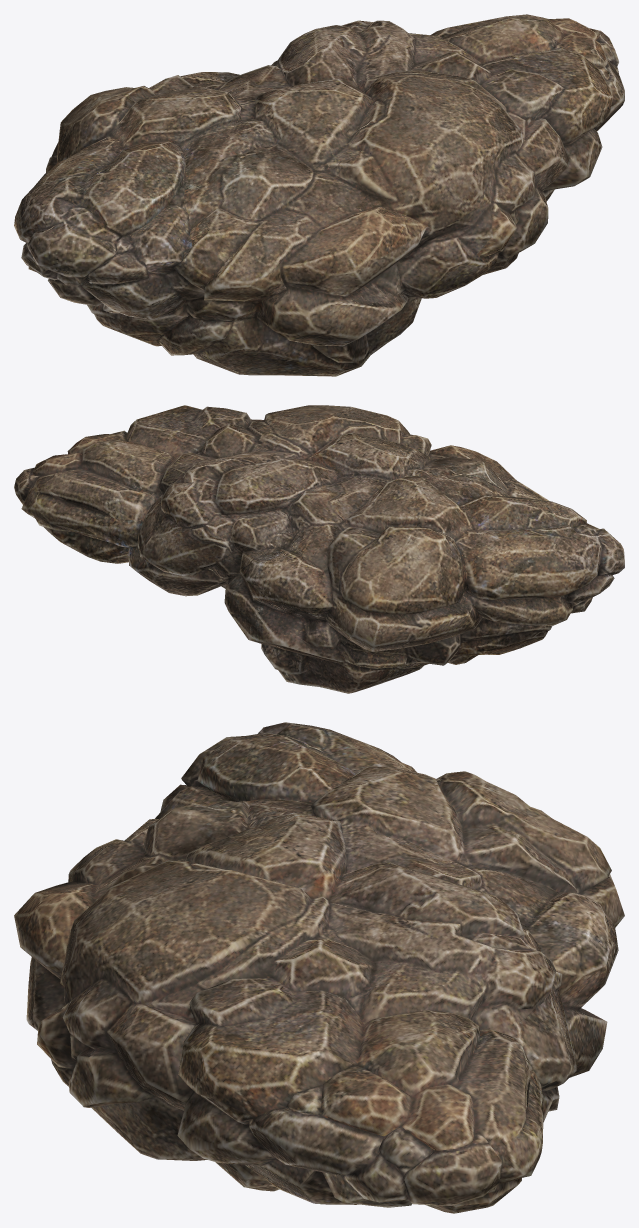
The model's file is rock_b.glb.
3 renders of one model, top to bottom at view 1: azimuth 30°, elevation 25°; view 2: azimuth 150°, elevation 25°; view 3: azimuth 270°, elevation 25°, orthographic. The views are drawn at different scales.
Parts seen in each view (by area): view 1: Object004_Field_Rock_B_0; view 2: Object004_Field_Rock_B_0; view 3: Object004_Field_Rock_B_0.
Boxes of the visible parts, x1,y1,x2,y2 form: Object004_Field_Rock_B_0: [14, 14, 624, 376]; Object004_Field_Rock_B_0: [14, 405, 624, 693]; Object004_Field_Rock_B_0: [14, 722, 624, 1213].
Bounding box in the file's own units: 32.55 × 11.59 × 19.68.
1 material, 1 textured.
